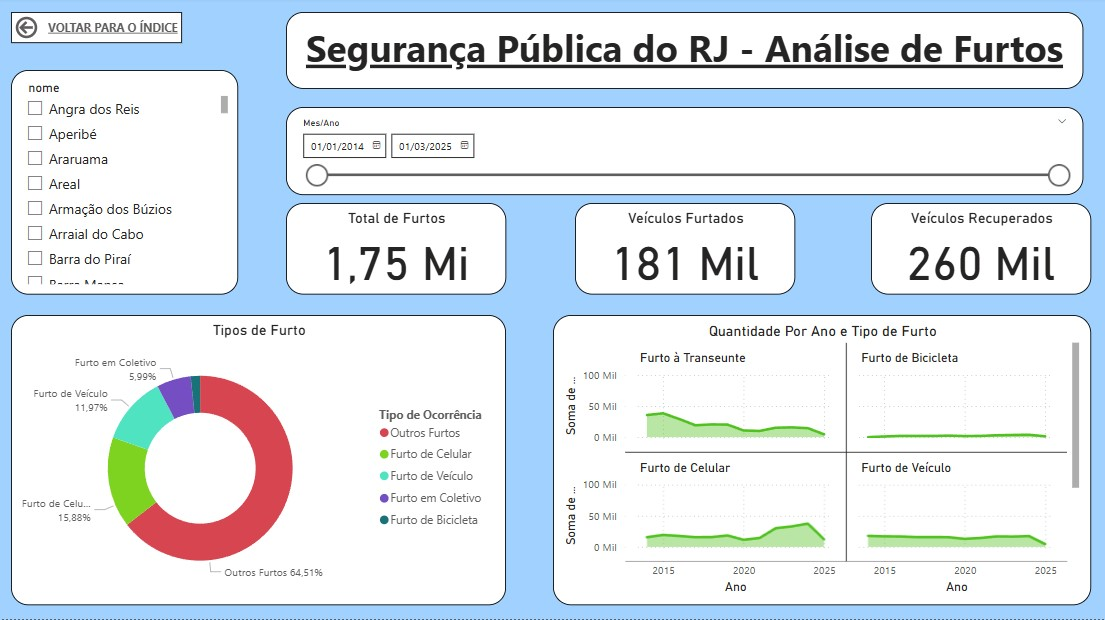

The page's visual inventory and layout, read from the dashboard file:
{"tool":"powerbi","page":{"name":"Furtos","canvas":[1280,720],"ordinal":2},"visuals":[{"type":"card","title":"Total de Furtos","fields":{"Values":["Medidas.TotalFurtos"]},"box":[331.1,238.5,254.7,106.5],"z":0},{"type":"card","title":"Veículos Furtados","fields":{"Values":["Medidas.TotalVeiculosFurtados"]},"box":[665.6,238.5,254.7,106.5],"z":1000},{"type":"card","title":"Veículos Recuperados","fields":{"Values":["Medidas.TotalVeiculosRecuperados"]},"box":[1008.2,238.5,254.7,106.5],"z":2000},{"type":"slicer","fields":{"Values":["MunicipiosRJ.nome"]},"box":[12.7,84.5,262.8,260.5],"z":3000},{"type":"textbox","box":[331.1,17.4,922.6,89.1],"z":4000},{"type":"slicer","fields":{"Values":["seguranca_rj_mensal.Mes/Ano"]},"box":[331.1,127.3,922.6,101.9],"z":5000},{"type":"stackedAreaChart","title":"Quantidade Por Ano e Tipo de Furto","fields":{"Category":["seguranca_rj_mensal.Mes/Ano.Variation.Hierarquia de datas.Ano"],"Y":["seguranca_rj_mensal.Quantidade"],"Rows":["seguranca_rj_mensal.Tipo de Ocorrência"]},"box":[640.1,368.1,622.8,335.7],"z":6000},{"type":"donutChart","title":"Tipos de Furto","fields":{"Y":["seguranca_rj_mensal.Quantidade"],"Category":["seguranca_rj_mensal.Tipo de Ocorrência"]},"box":[12.7,368.1,573,335.7],"z":7000},{"type":"actionButton","title":"VOLTAR","box":[12.7,17.4,197.9,35.9],"z":8000}]}

Visuals, with their boxes in screenshot pixels (x1, y1, x2, y2), scaled from the page's 1280x720 canvas onto the 1105x620 screenshot:
"Total de Furtos" card: box(286, 205, 506, 297)
"Veículos Furtados" card: box(575, 205, 794, 297)
"Veículos Recuperados" card: box(870, 205, 1090, 297)
slicer - MunicipiosRJ.nome: box(11, 73, 238, 297)
textbox: box(286, 15, 1082, 92)
slicer - seguranca_rj_mensal.Mes/Ano: box(286, 110, 1082, 197)
"Quantidade Por Ano e Tipo de Furto" stackedAreaChart: box(553, 317, 1090, 606)
"Tipos de Furto" donutChart: box(11, 317, 506, 606)
"VOLTAR" actionButton: box(11, 15, 182, 46)
